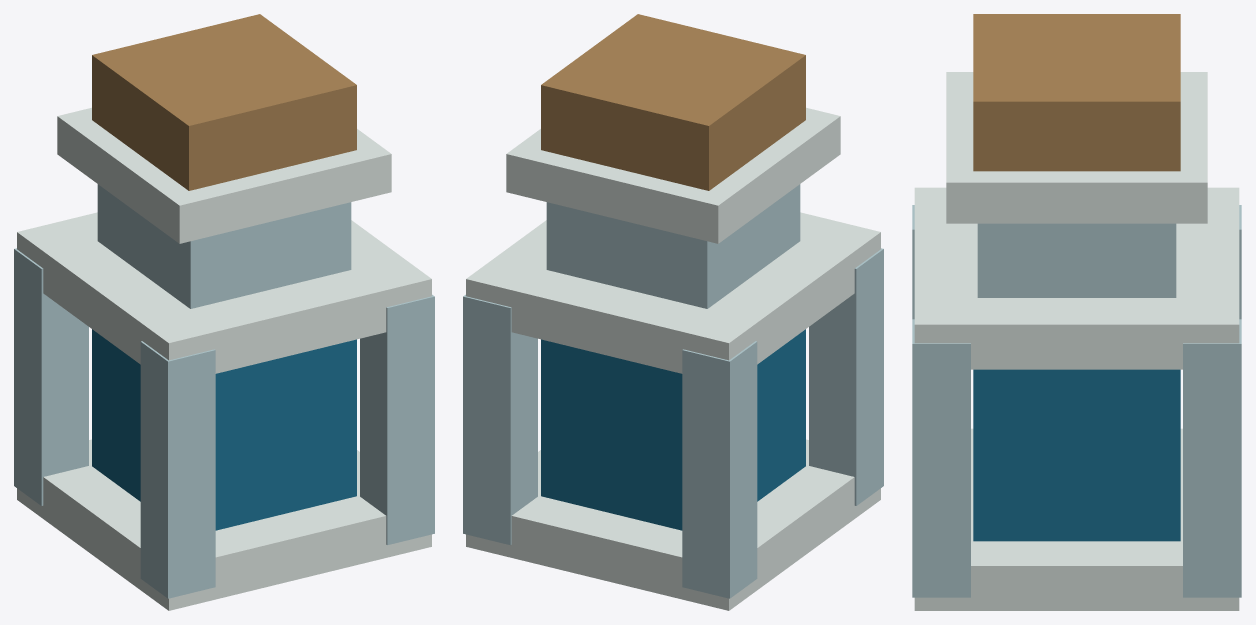
Rendered from potion_blue.glb.
3 renders of one model, left to right at view 1: azimuth 30°, elevation 25°; view 2: azimuth 150°, elevation 25°; view 3: azimuth 270°, elevation 25°, orthographic. The views are drawn at different scales.
Parts seen in each view (by area): view 1: potion_blue; view 2: potion_blue; view 3: potion_blue.
Part boxes in pixels (left/top/right/bottom): potion_blue: left=14, top=14, right=434, bottom=610; potion_blue: left=463, top=14, right=883, bottom=610; potion_blue: left=912, top=14, right=1241, bottom=610.
Bounding box in the file's own units: 0.365 × 0.5925 × 0.365.
